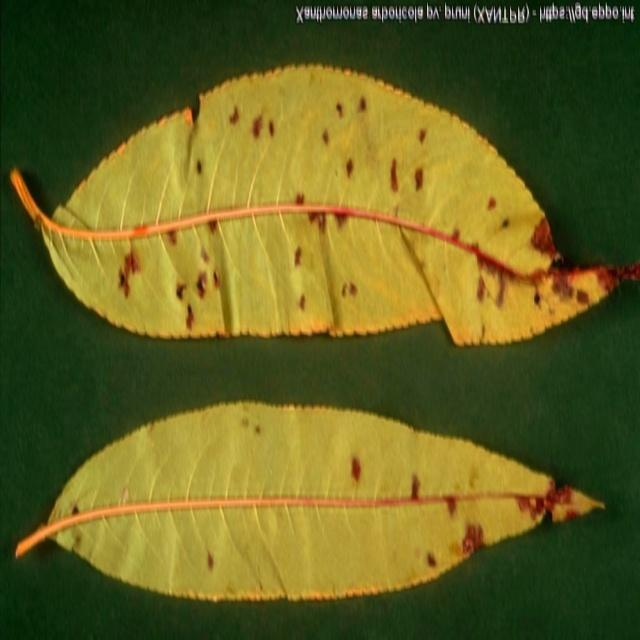shot_hole: (0, 61, 640, 350), (0, 351, 640, 640)
